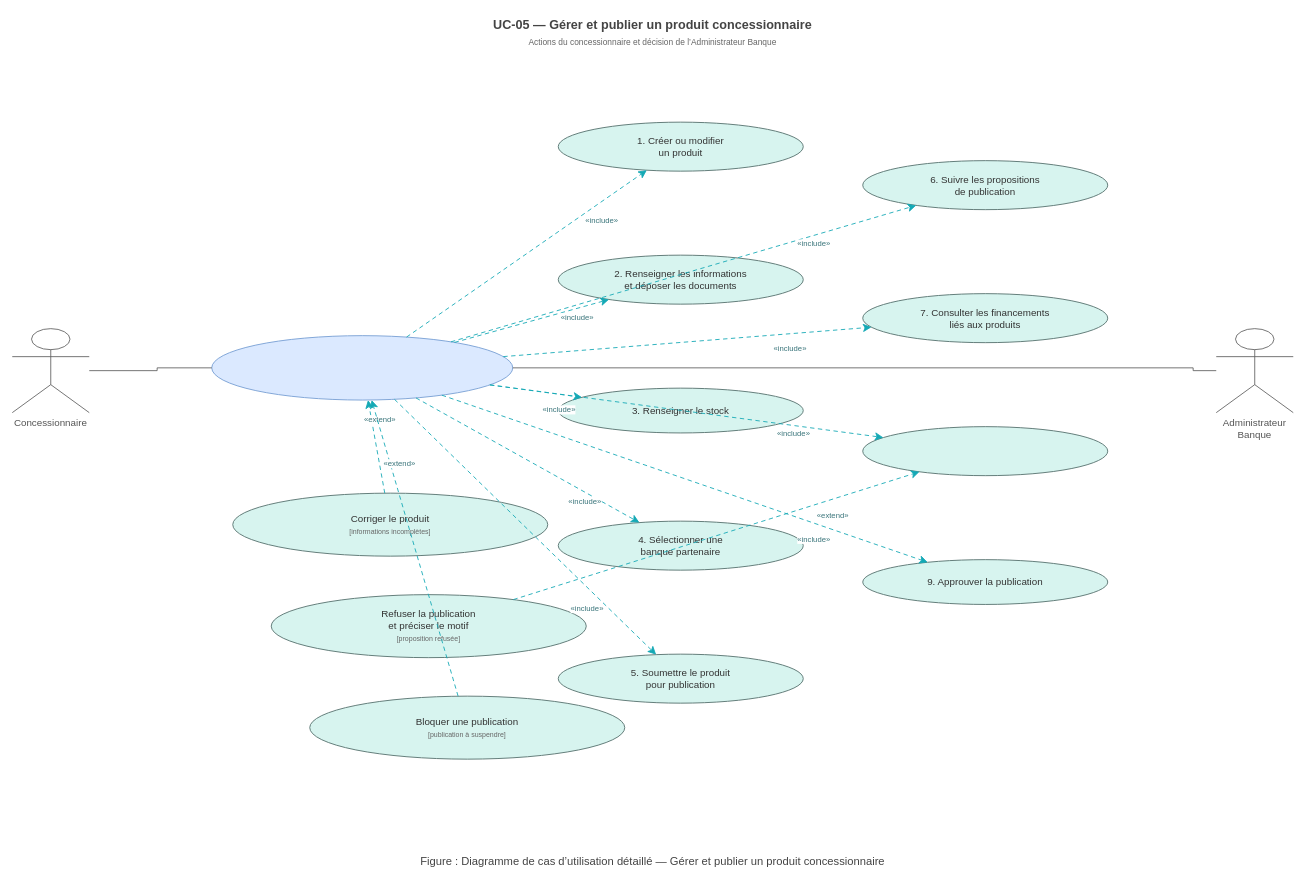
Some shapes in this 1306 by 885 pixel diagram are drawn without their labels. The shapes that lost their labels are listed below. From the top down, each one's centre as x and y in pixels, then its label:
[362,367]: Gérer et proposer un produit
[985,451]: 8. Examiner la proposition de publication
